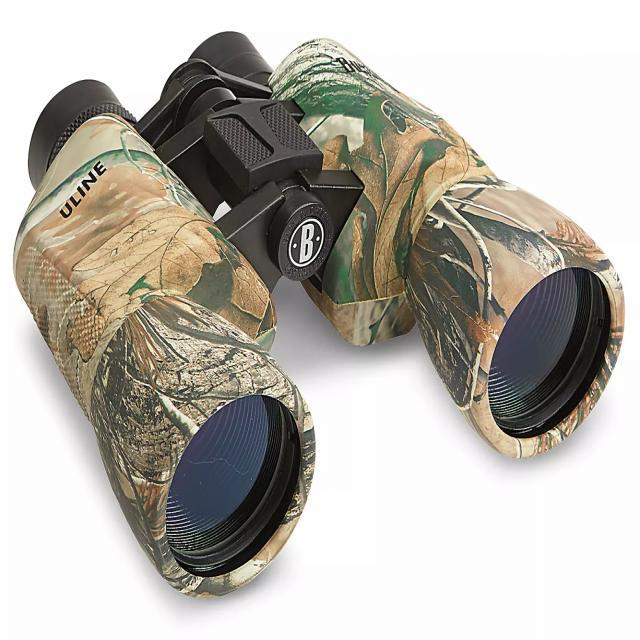Binocular: (13, 22, 628, 604)
